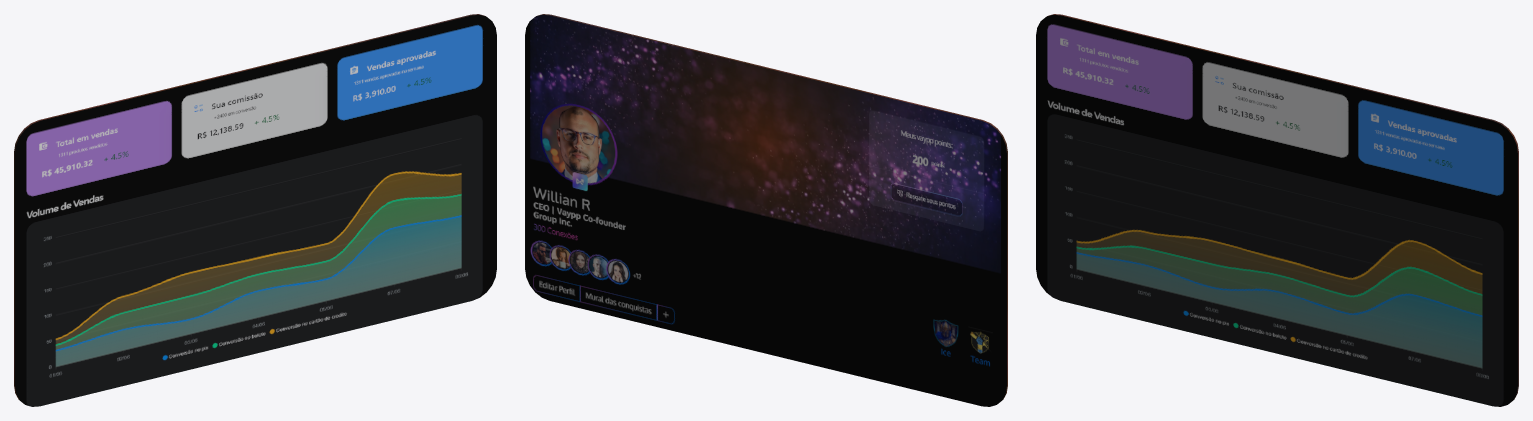
3 views of the same model, side by side, from view 1: azimuth 30°, elevation 25°; view 2: azimuth 150°, elevation 25°; view 3: azimuth 330°, elevation 25° (orthographic).
Visible parts, largest first — view 1: Credit Card; view 2: Credit Card; view 3: Credit Card.
Boxes of the visible parts, box(x1,y1,x2,y2) form: Credit Card: box(14, 14, 496, 406); Credit Card: box(525, 14, 1007, 406); Credit Card: box(1036, 14, 1518, 406).
Bounding box in the file's own units: 3.05 × 1.73 × 0.0121.
1 material, 1 textured.
